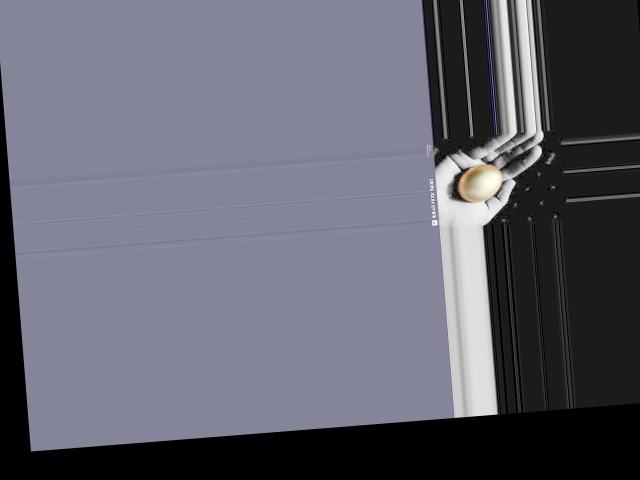egg: (457, 162, 504, 202)
